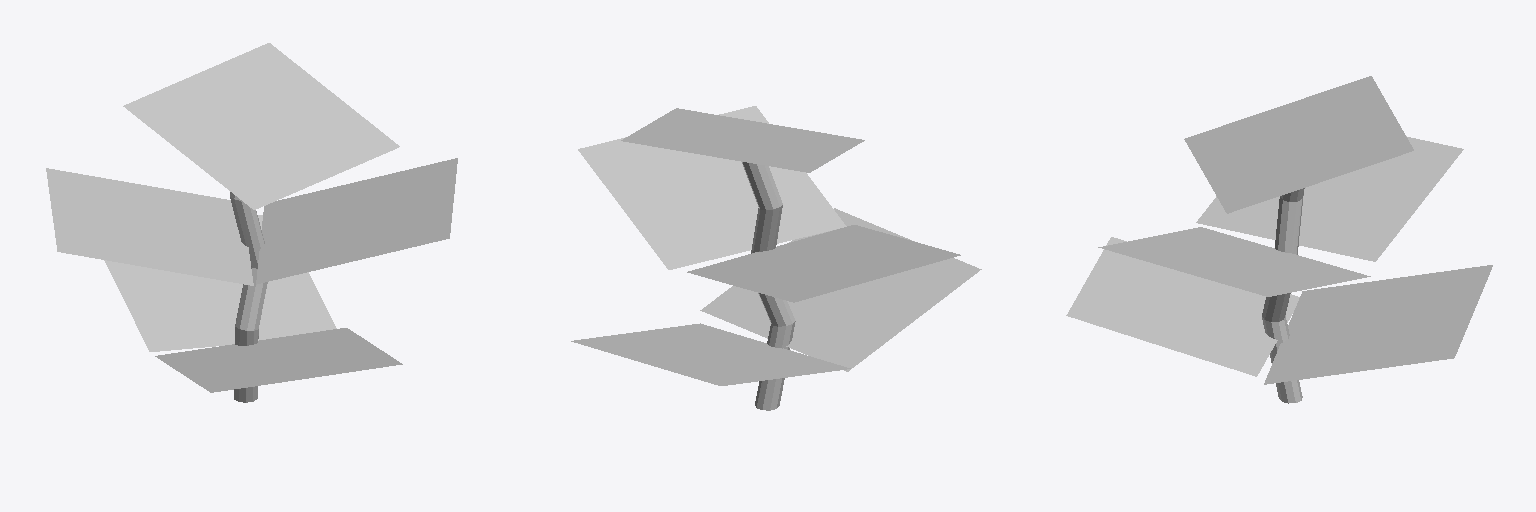
Rendered from Flowers_Fixed.obj.
3 views of the same model, side by side, from view 1: azimuth 30°, elevation 25°; view 2: azimuth 150°, elevation 25°; view 3: azimuth 270°, elevation 25° (orthographic).
Parts seen in each view (by area): view 1: Flower_Clump_NotMerged Leafs, Flower_Head Flower_Clump_NotMerged, Flower_Clump_NotMerged Stalk; view 2: Flower_Clump_NotMerged Leafs, Flower_Head Flower_Clump_NotMerged, Flower_Clump_NotMerged Stalk; view 3: Flower_Clump_NotMerged Leafs, Flower_Head Flower_Clump_NotMerged, Flower_Clump_NotMerged Stalk.
Part boxes in pixels (left/top/right/bottom): Flower_Clump_NotMerged Leafs: left=46, top=158, right=457, bottom=392; Flower_Head Flower_Clump_NotMerged: left=123, top=43, right=399, bottom=209; Flower_Clump_NotMerged Stalk: left=230, top=192, right=267, bottom=402; Flower_Clump_NotMerged Leafs: left=571, top=106, right=981, bottom=385; Flower_Head Flower_Clump_NotMerged: left=621, top=108, right=864, bottom=172; Flower_Clump_NotMerged Stalk: left=742, top=162, right=795, bottom=410; Flower_Clump_NotMerged Leafs: left=1066, top=136, right=1492, bottom=384; Flower_Head Flower_Clump_NotMerged: left=1184, top=76, right=1413, bottom=213; Flower_Clump_NotMerged Stalk: left=1262, top=188, right=1304, bottom=403.
Size of the model in its own units: 20.57 by 14.48 by 19.4.